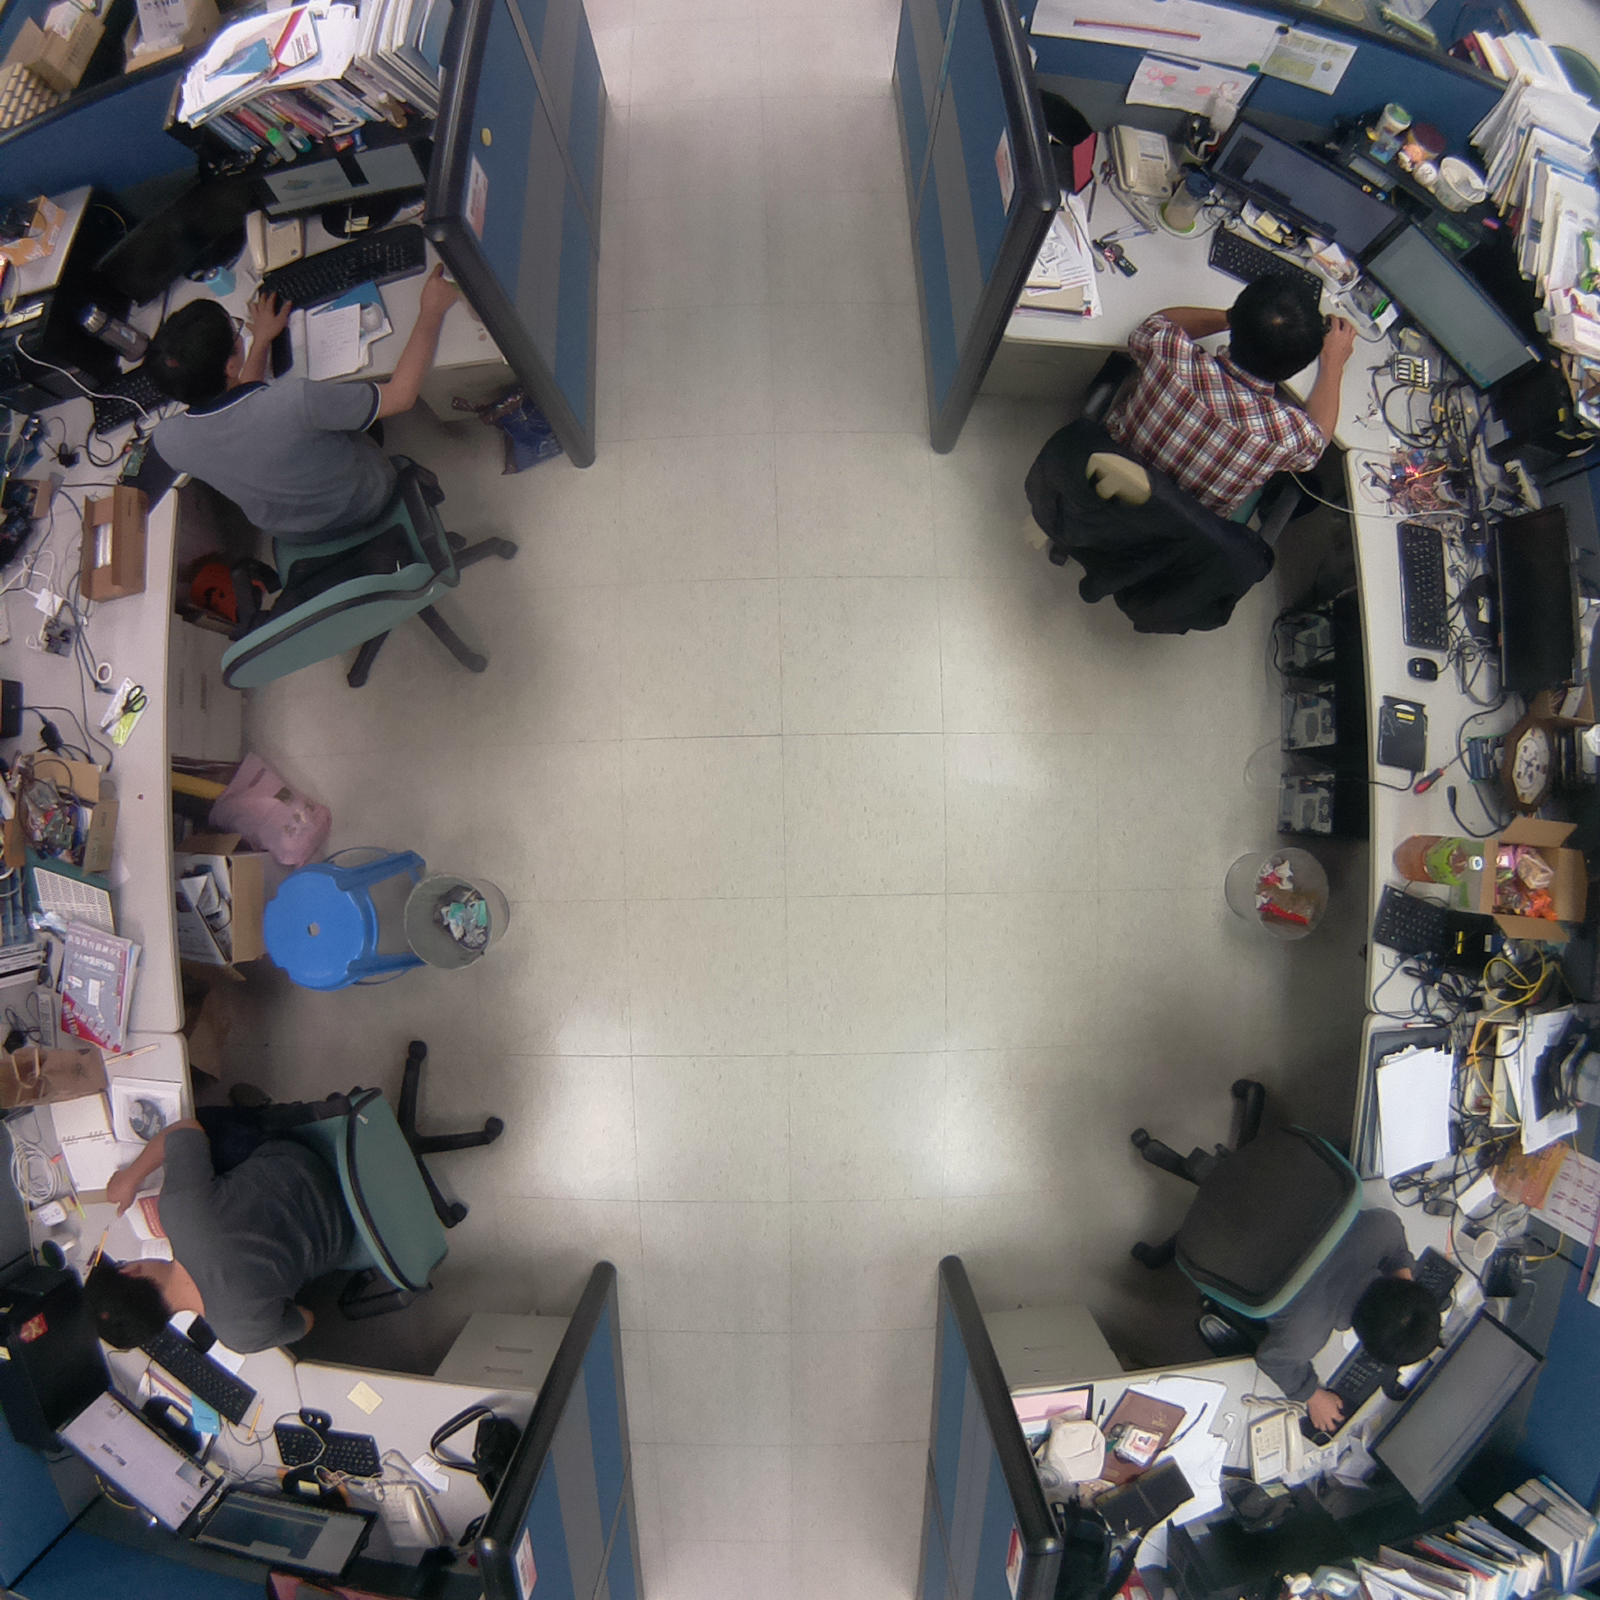head: (1216, 267, 1333, 382), (72, 1245, 187, 1355), (139, 297, 255, 405), (1349, 1274, 1451, 1370)
sitting: (125, 283, 540, 704), (78, 1014, 558, 1366), (1006, 264, 1359, 658), (1104, 1058, 1456, 1441)
